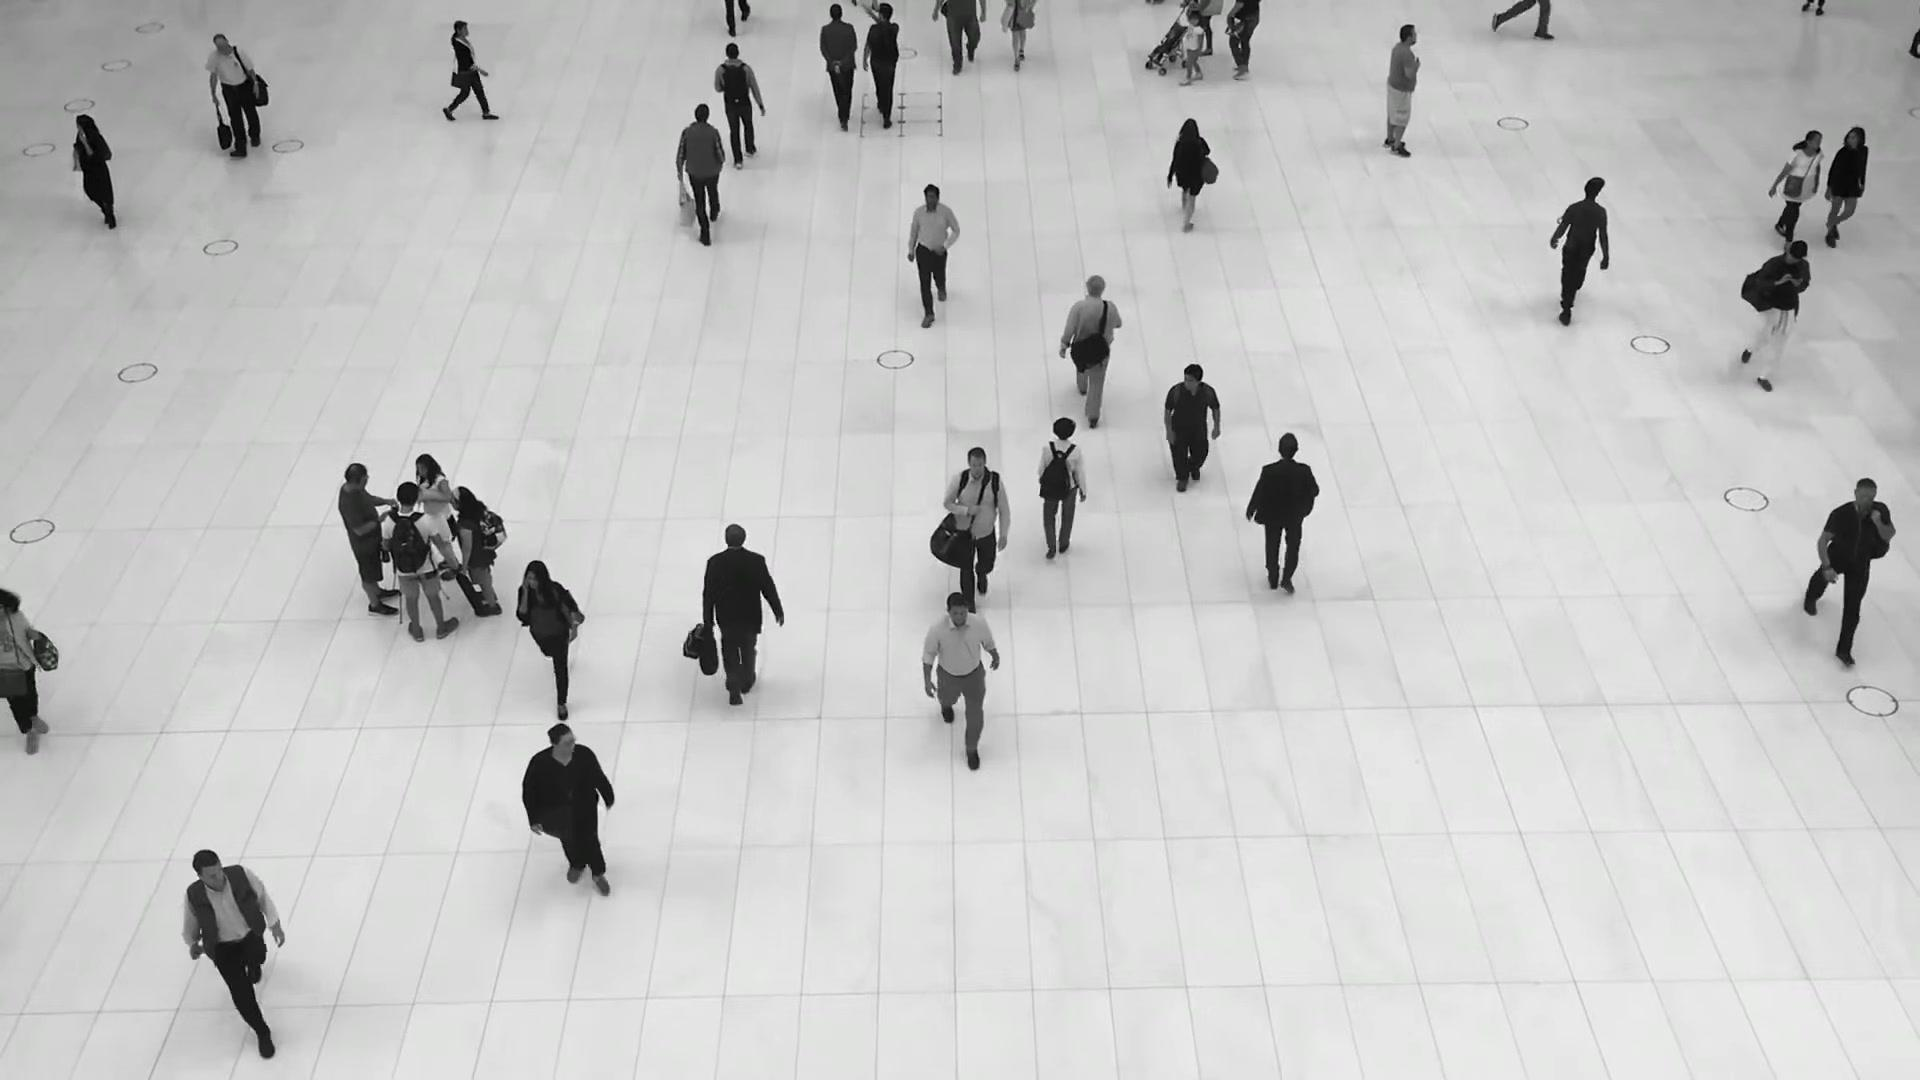person: (183, 845, 286, 1054), (1807, 472, 1895, 653), (701, 527, 780, 724), (524, 722, 613, 894), (919, 589, 998, 773), (1248, 438, 1321, 613), (381, 481, 459, 641), (515, 557, 590, 716), (945, 448, 1011, 614), (1741, 240, 1810, 396), (337, 464, 400, 615), (1061, 274, 1124, 422), (1158, 365, 1222, 499), (1552, 176, 1610, 322), (909, 183, 963, 332), (1035, 421, 1085, 575), (205, 31, 261, 157), (677, 102, 727, 242), (450, 485, 503, 617), (1819, 127, 1869, 250), (1771, 128, 1824, 241), (1167, 117, 1219, 229), (715, 43, 761, 167), (446, 21, 503, 121), (415, 453, 459, 580), (72, 113, 118, 230), (1383, 24, 1421, 157), (819, 5, 858, 132), (863, 3, 899, 126), (1179, 12, 1204, 86)
